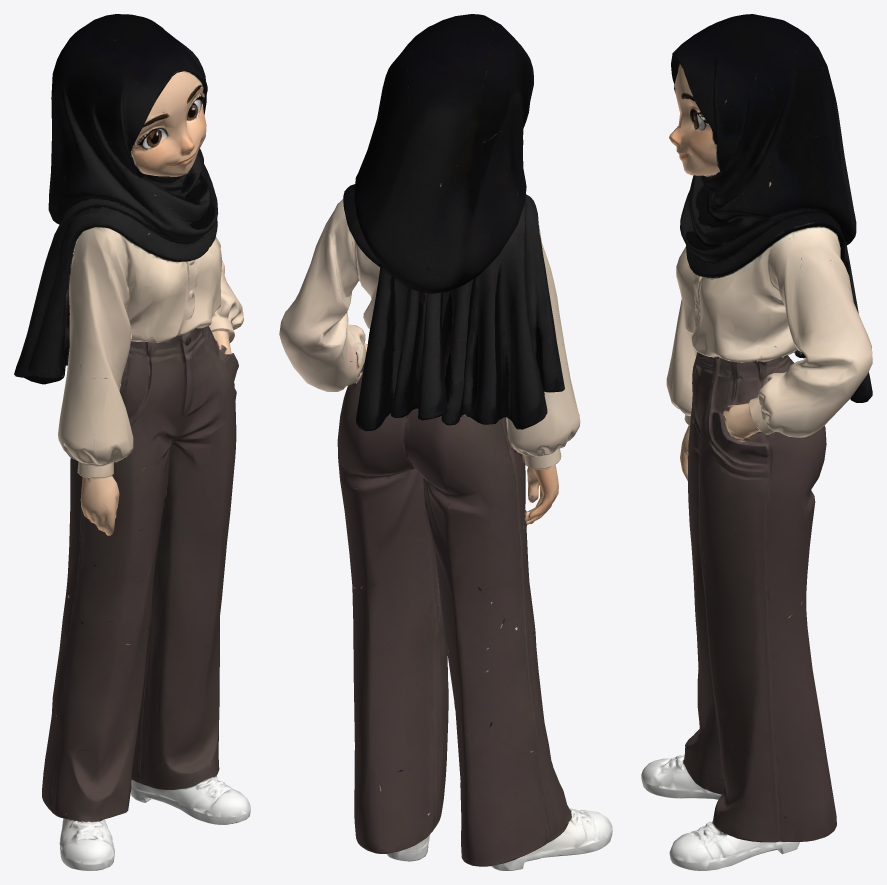
Rendered from casual_chic_hijab.glb.
3 views of the same model, side by side, from view 1: azimuth 30°, elevation 25°; view 2: azimuth 150°, elevation 25°; view 3: azimuth 270°, elevation 25° (orthographic). The views are drawn at different scales.
Bounding box in the file's own units: 0.5769 × 1.9 × 0.4944.
1 material, 1 textured.
